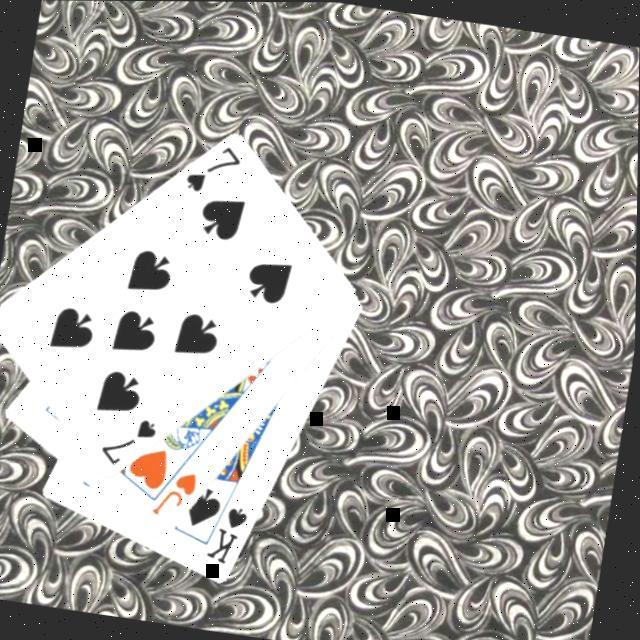7S: (95, 411, 162, 476), (180, 138, 246, 202)
JH: (148, 465, 204, 525)
KS: (203, 501, 254, 570)
